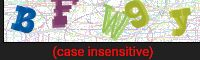9: (122, 1, 153, 29)
B: (9, 2, 43, 38)
F: (49, 1, 84, 29)
W: (97, 1, 129, 40)
y: (164, 3, 195, 38)
